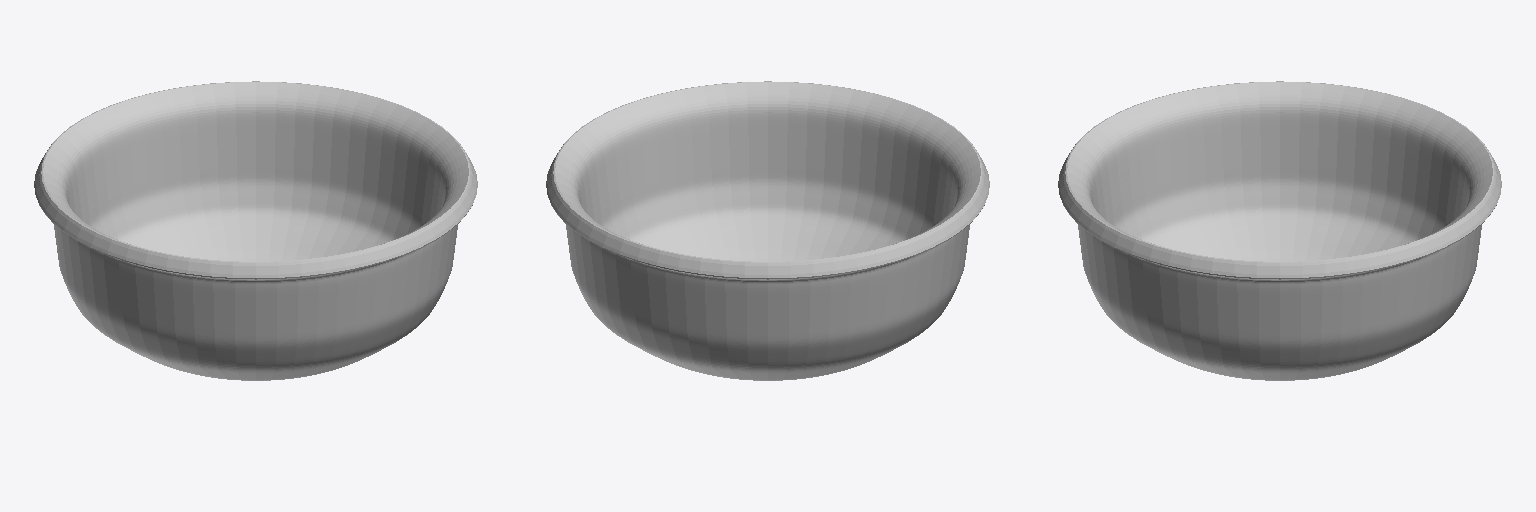
File: bowl.obj
3 renders of one model, left to right at view 1: azimuth 30°, elevation 25°; view 2: azimuth 150°, elevation 25°; view 3: azimuth 270°, elevation 25°, orthographic.
Parts seen in each view (by area): view 1: bowl:Mesh bowl1; view 2: bowl:Mesh bowl1; view 3: bowl:Mesh bowl1.
Boxes of the visible parts, x1=… form: bowl:Mesh bowl1: x1=34, y1=81, x2=477, y2=380; bowl:Mesh bowl1: x1=546, y1=81, x2=989, y2=380; bowl:Mesh bowl1: x1=1058, y1=81, x2=1501, y2=380.
Bounding box in the file's own units: 1.1 × 0.4617 × 1.1.